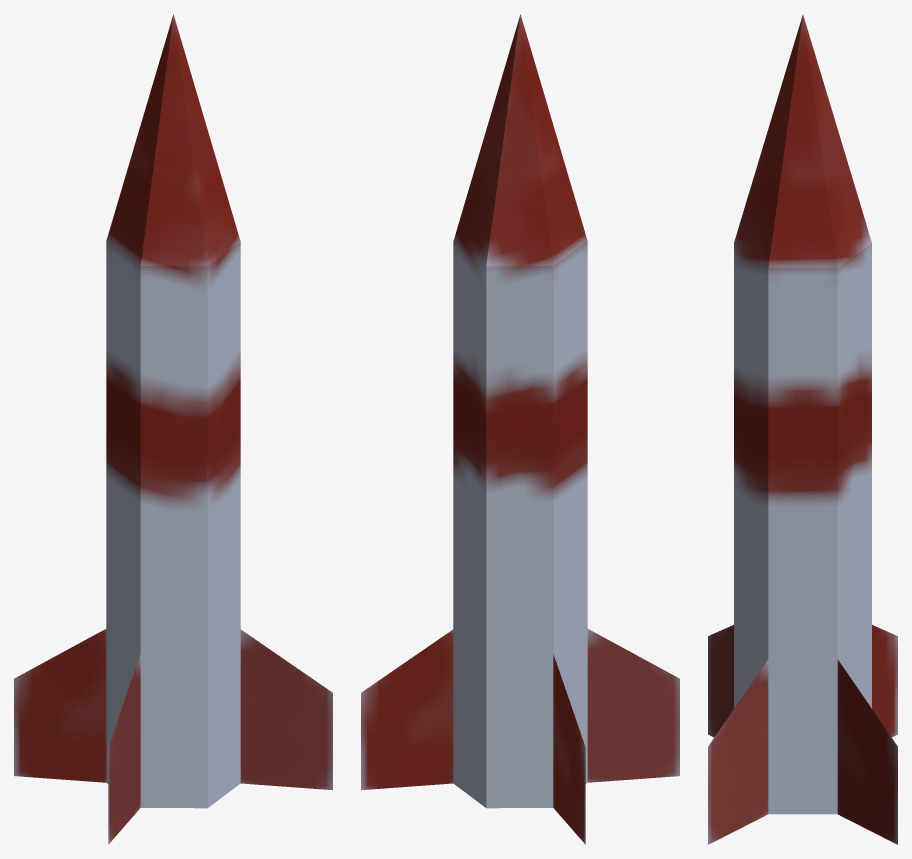
The model's file is missile.fbx.
3 renders of one model, left to right at view 1: azimuth 30°, elevation 25°; view 2: azimuth 150°, elevation 25°; view 3: azimuth 270°, elevation 25°, orthographic.
Visible parts, largest first — view 1: missile.003; view 2: missile.003; view 3: missile.003.
Part boxes in pixels (x1,y1,x2,y2): missile.003: [14, 14, 332, 844]; missile.003: [361, 14, 679, 844]; missile.003: [708, 15, 897, 844].
Size of the model in its own units: 23.52 by 76.98 by 17.07.
1 material, 1 textured.
